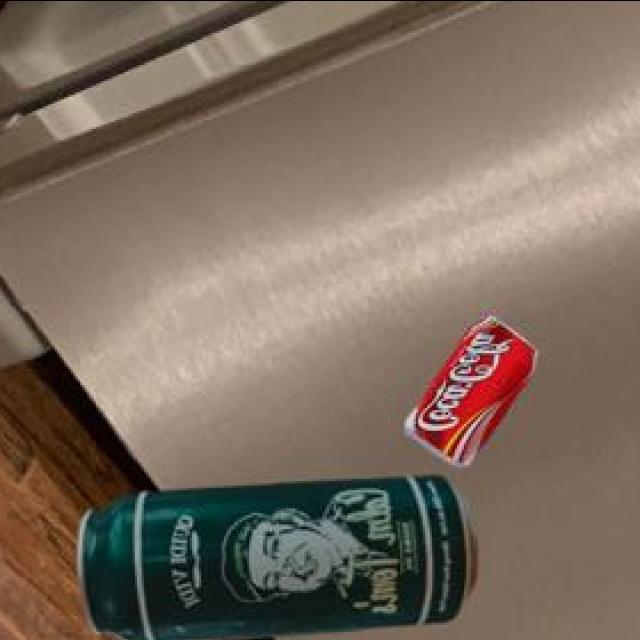logam: (81, 479, 481, 640), (410, 319, 541, 470)
